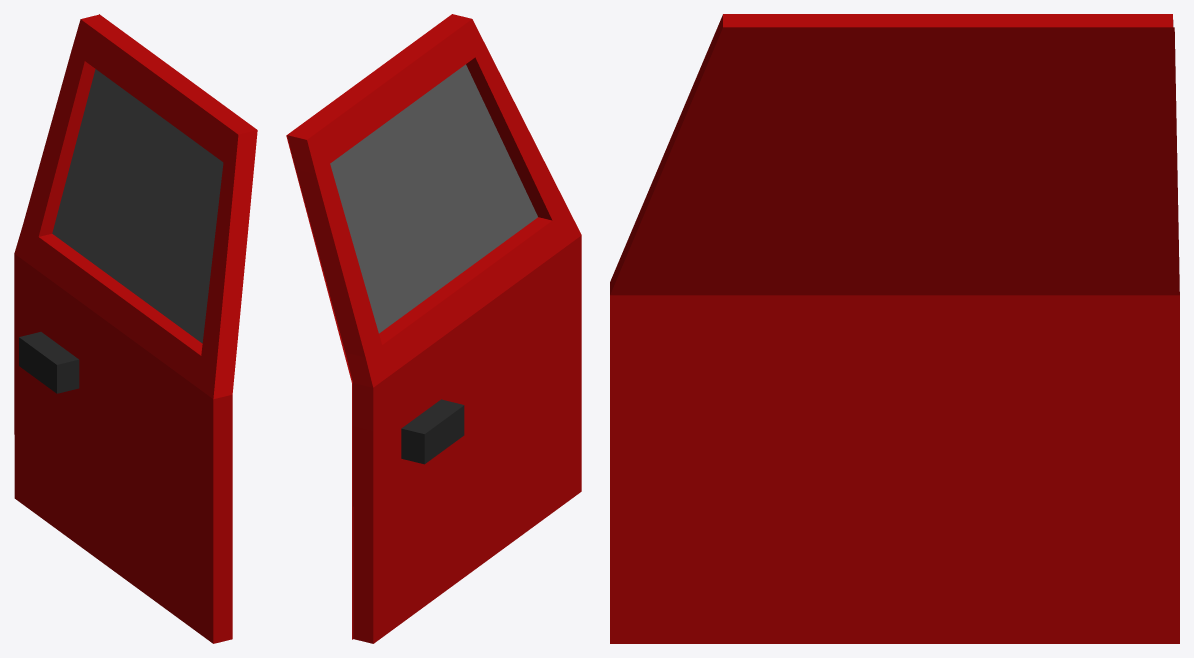
The model's file is CAR_RED_MODEL_RIGHTDOOR.fbx.
The picture shows the model from 3 angles, left to right: view 1: azimuth 30°, elevation 25°; view 2: azimuth 150°, elevation 25°; view 3: azimuth 270°, elevation 25°; orthographic projection. The views are drawn at different scales.
Visible parts, largest first — view 1: CAR_RED_RIGHT_HANDLE1; view 2: CAR_RED_RIGHT_HANDLE1; view 3: CAR_RED_RIGHT_HANDLE1.
Boxes of the visible parts, box(x1,y1,x2,y2) form: CAR_RED_RIGHT_HANDLE1: box(14, 14, 257, 643); CAR_RED_RIGHT_HANDLE1: box(286, 14, 581, 643); CAR_RED_RIGHT_HANDLE1: box(610, 14, 1179, 643).
Bounding box in the file's own units: 2.79 × 11.66 × 9.1.
